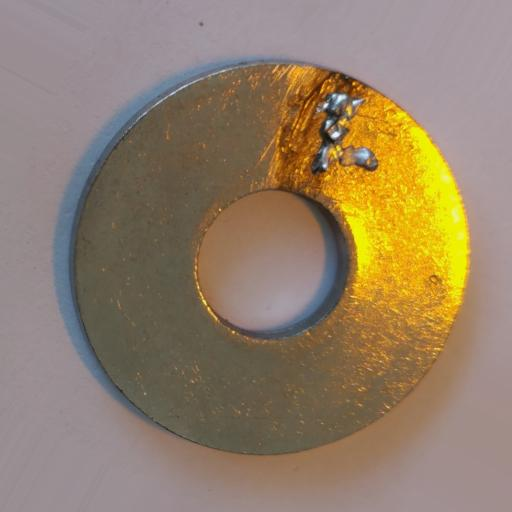excess_material: (310, 91, 379, 175)
